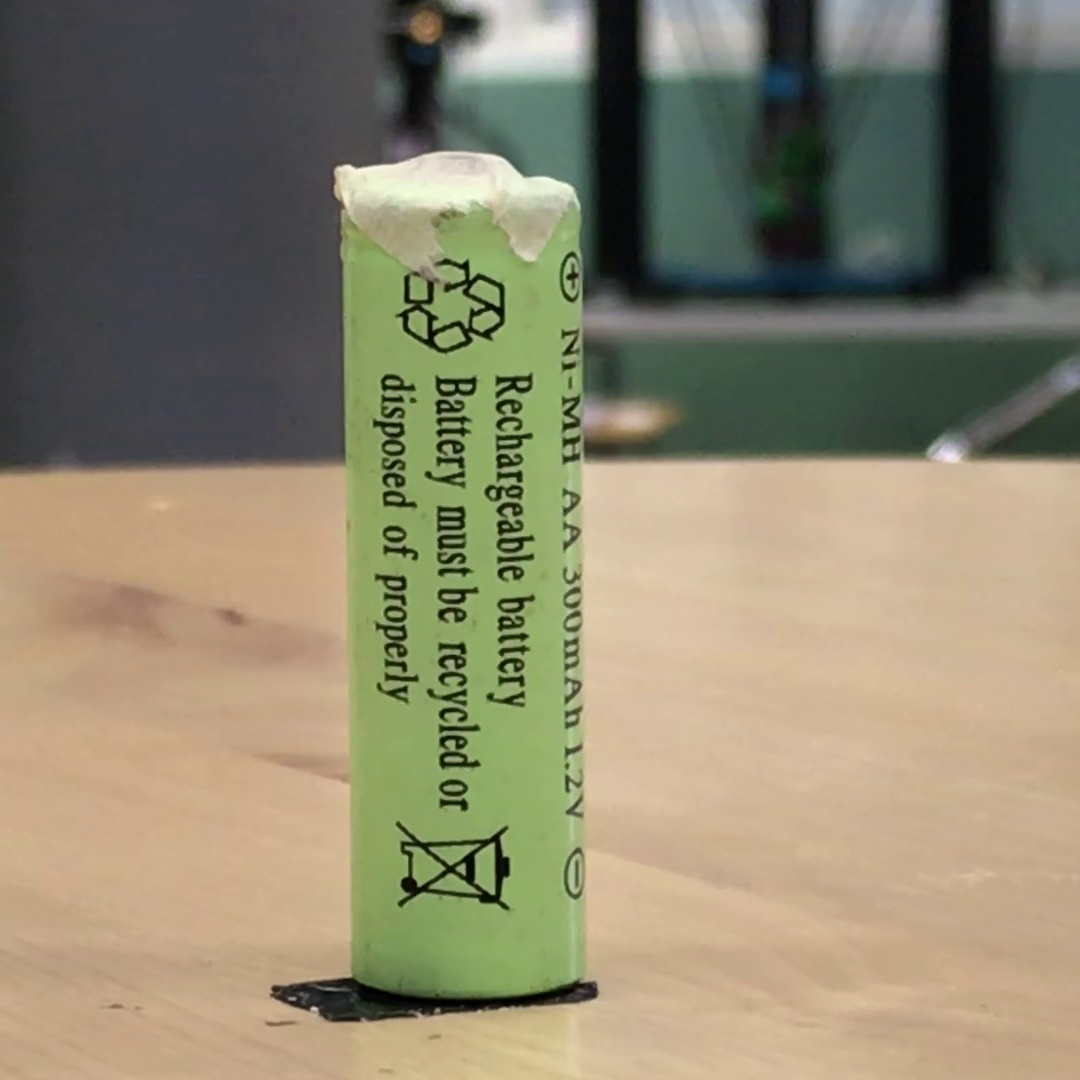keyword: (551, 319, 591, 474)
